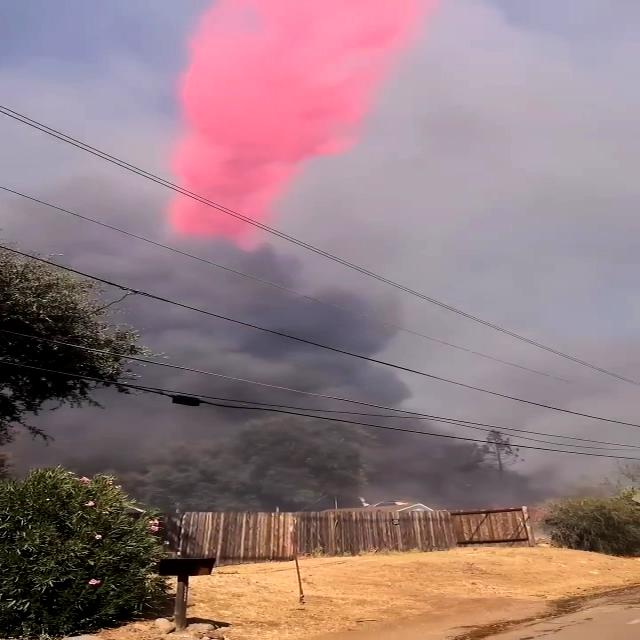no_helmet: (127, 249, 411, 420)
